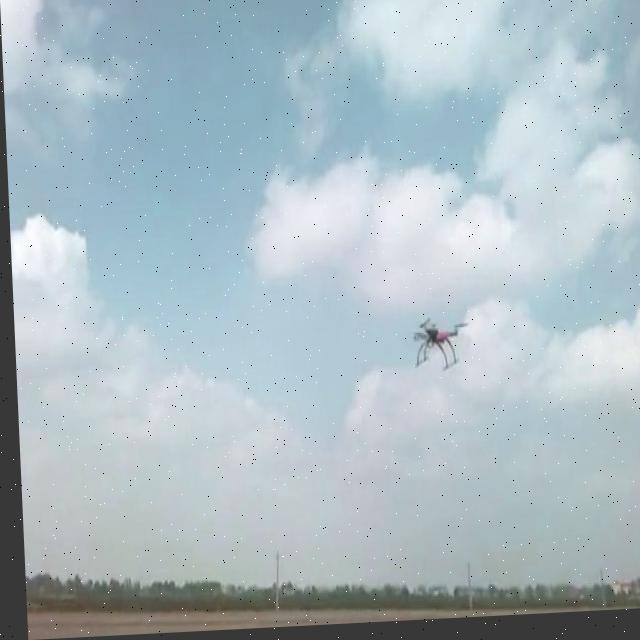drone: (409, 315, 468, 376)
